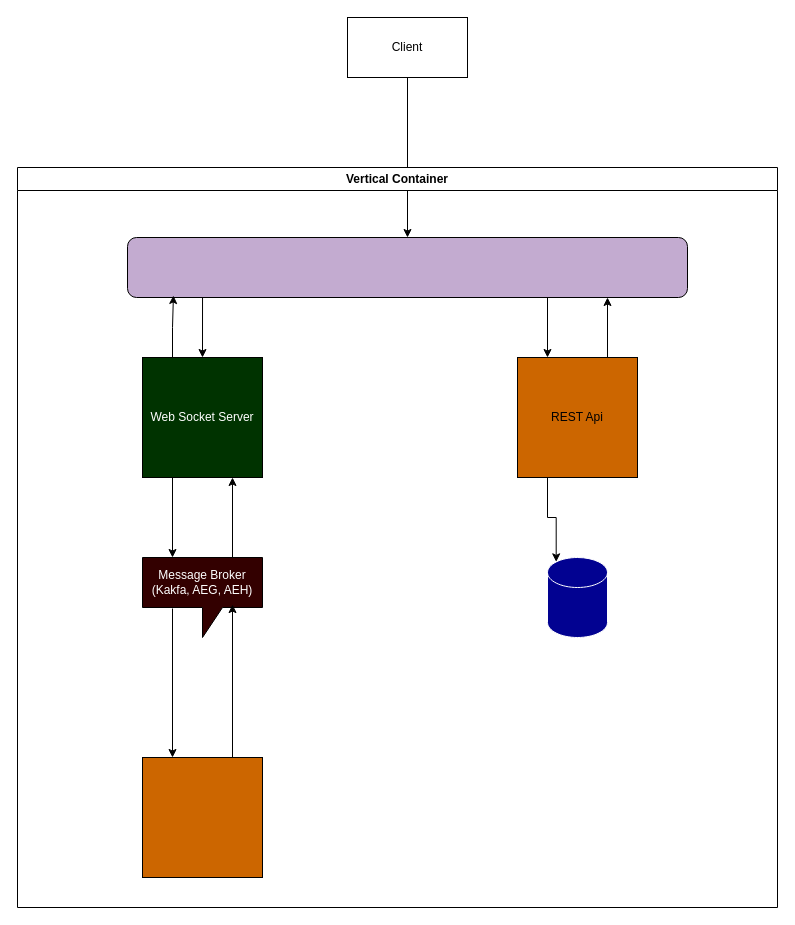
This 795x925 diagram has some shape labels left out. Each missing label, with the box of its shape:
API Gateway / Load Balancer: (126, 236, 688, 298)
DB: (546, 556, 608, 638)
Marcket Data Provider API Service: (142, 756, 262, 878)
